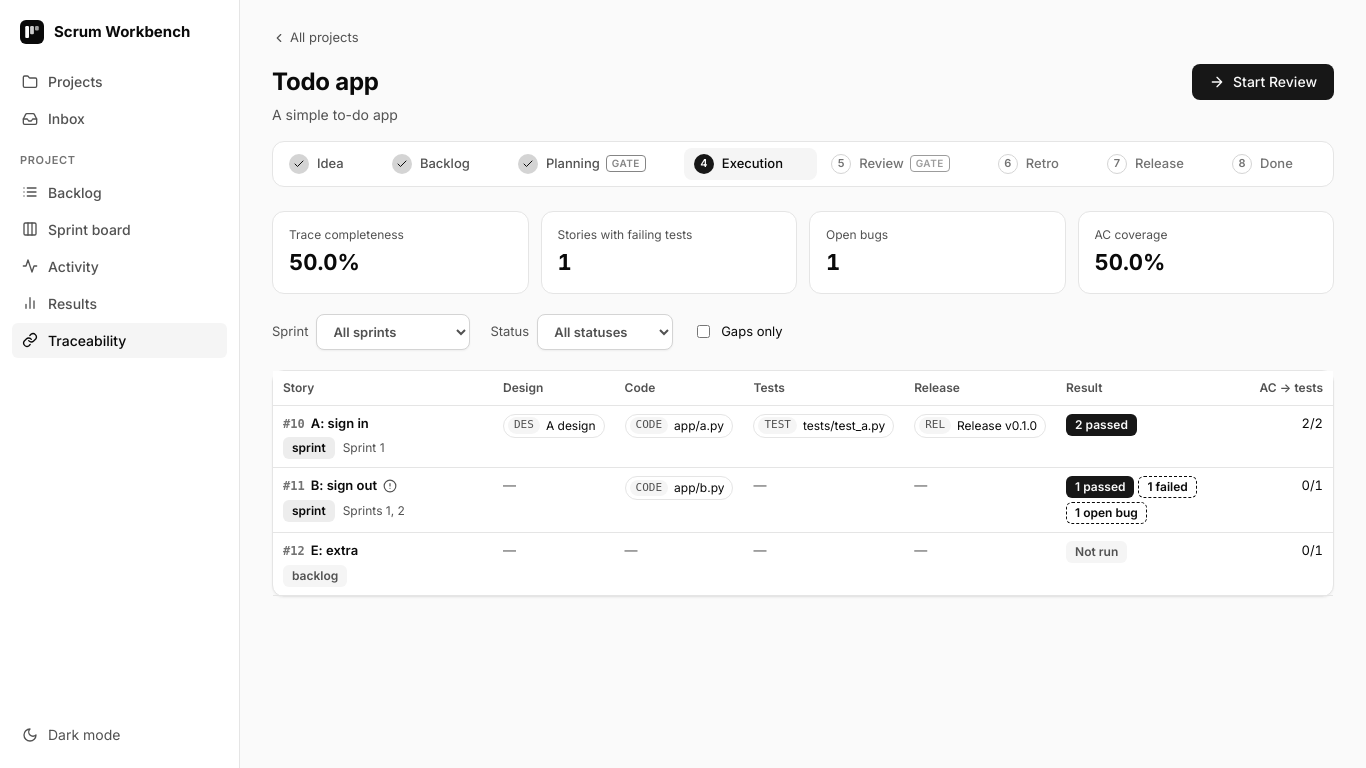
Test: TraceabilityPage › shows the release of a story and opens its notes
Expected: the text "A: sign in" is shown, [311,414,369,433]
Expected: the column heading "Release" is shown, [904,370,1056,405]
What coordinates should you click on to do the following:
click the button "REL Release v0.1.0"
I would click on:
 (980, 426)
Its box is [914,414,1046,438].
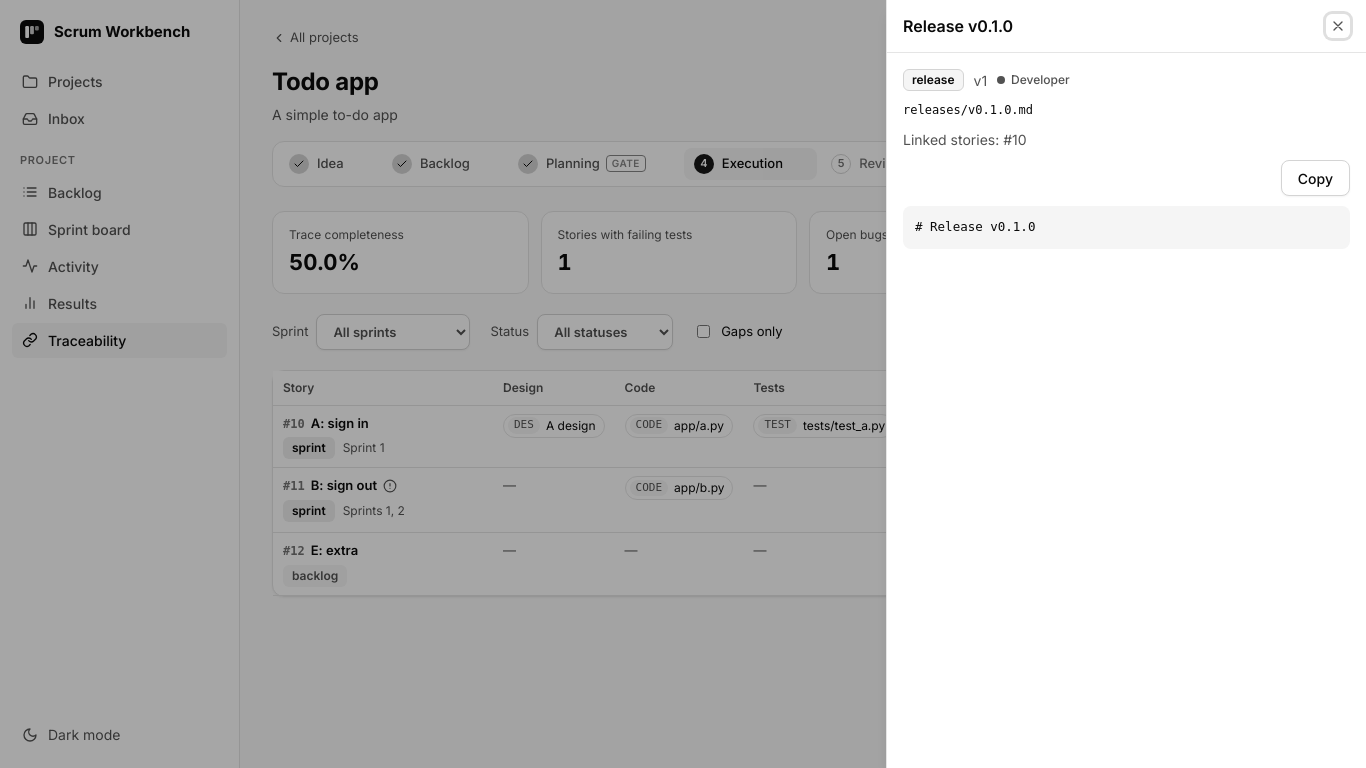
Result: the text "# Release v0.1.0" is shown at [915,219,1035,234]
